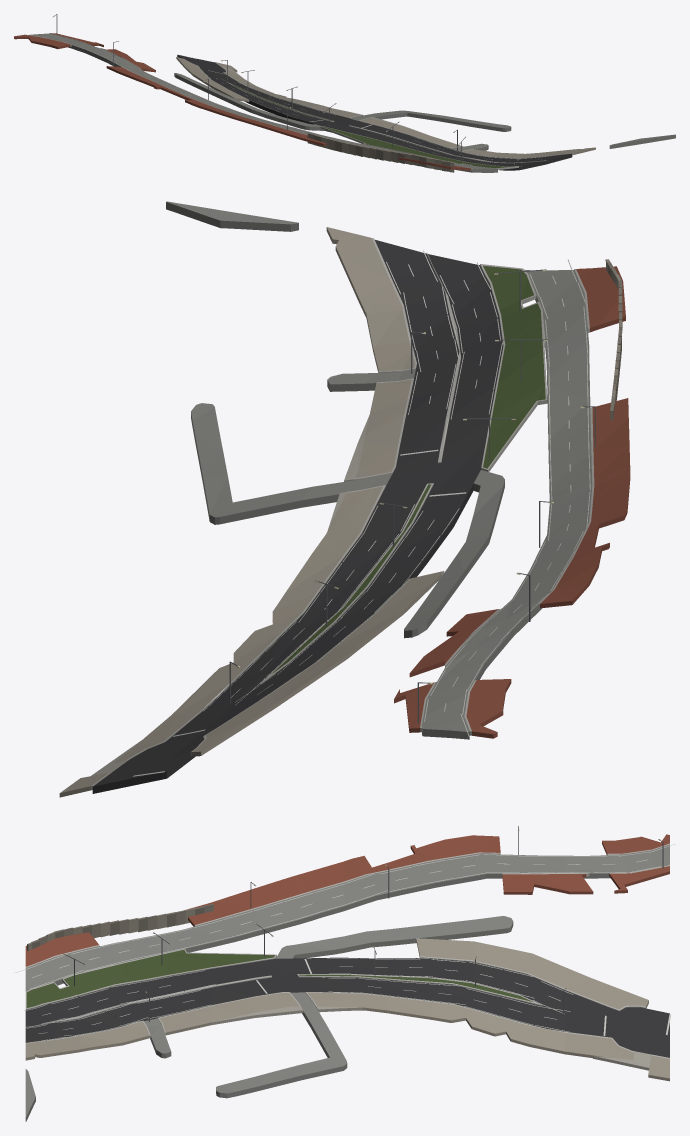
3 renders of one model, top to bottom at view 1: azimuth 30°, elevation 25°; view 2: azimuth 150°, elevation 25°; view 3: azimuth 270°, elevation 25°, orthographic. The views are drawn at different scales.
Bounding box in the file's own units: 140 × 35.92 × 150.
